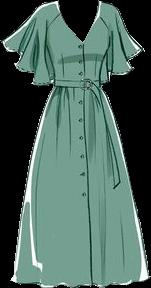Bodice: (36, 0, 118, 88)
Hemline: (11, 274, 149, 287)
Neckline: (55, 0, 101, 45), (43, 13, 61, 33), (96, 12, 110, 33)
Skirt: (10, 87, 148, 287)
Sleeve: (1, 9, 52, 85), (101, 11, 144, 84)
Sleeveline: (107, 11, 121, 32), (36, 8, 46, 34)
Waistline: (52, 84, 102, 91)
